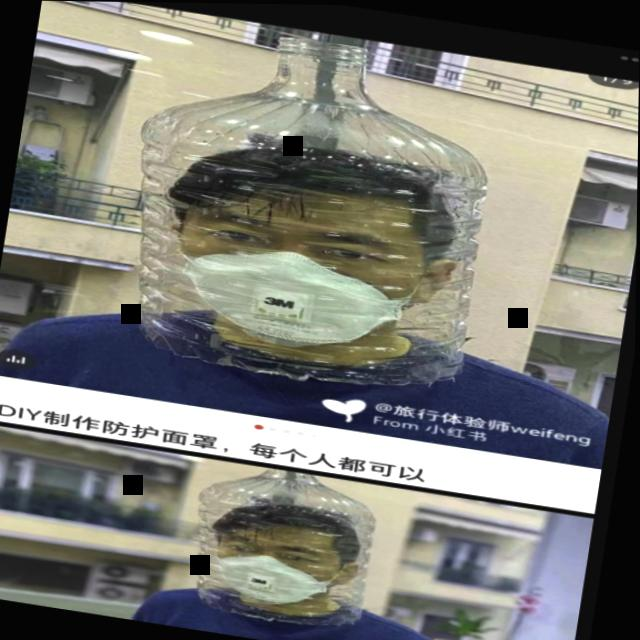Mask: (125, 122, 514, 384), (147, 455, 423, 628)
